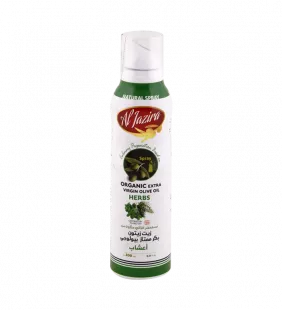AL JAZIRA: (100, 20, 180, 285)
